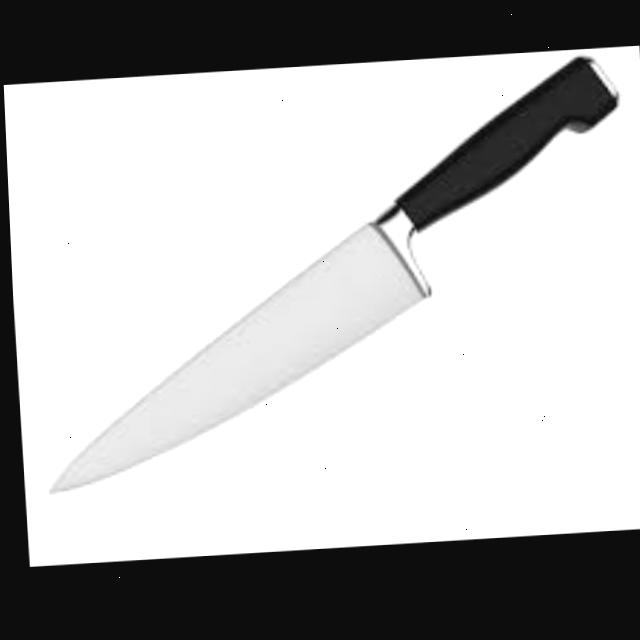Knife: (20, 55, 637, 495)
